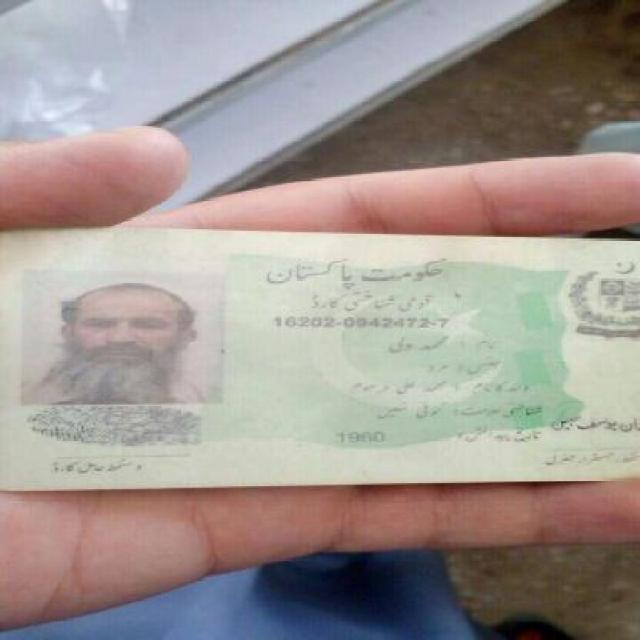Front: (6, 226, 637, 483)
